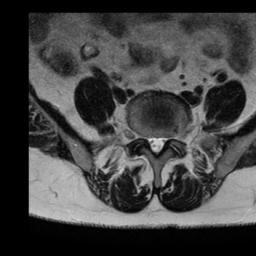CCS_normal: (153, 131, 159, 160)
LFS_severe_stenosis: (166, 129, 174, 148)
LLS_normal: (159, 130, 166, 151)
RFS_severe_stenosis: (140, 127, 146, 148)
RLS_normal: (146, 129, 153, 151)
